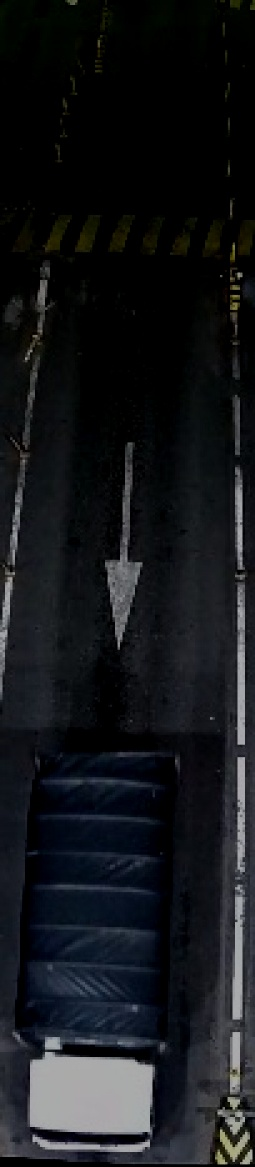truck: (10, 730, 202, 1157)
